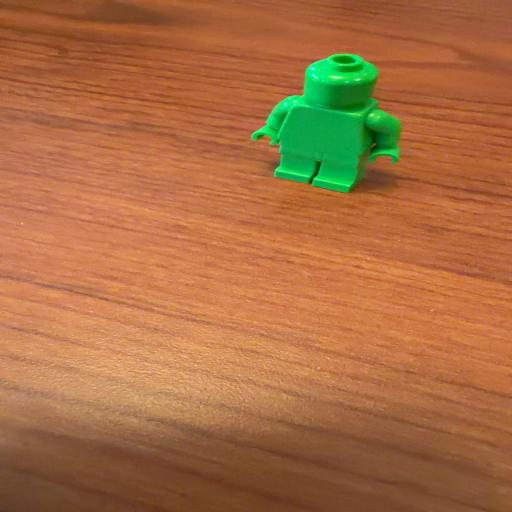UnoQ-minifig-detector: (252, 54, 401, 193)
